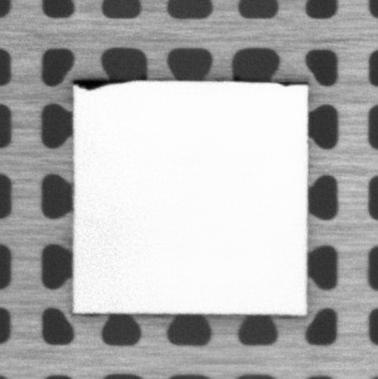DIE_BROKEN: (73, 77, 114, 91)
